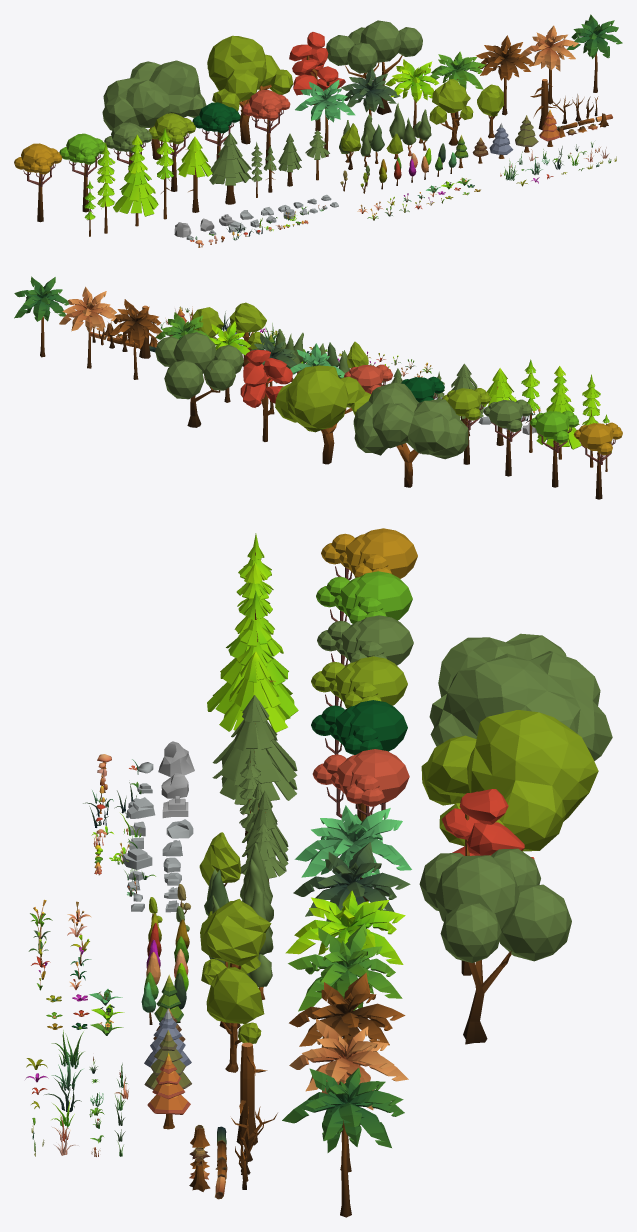
File: LowPolyTreePack_HyerCasual.fbx
3 views of the same model, one above another, from view 1: azimuth 30°, elevation 25°; view 2: azimuth 150°, elevation 25°; view 3: azimuth 270°, elevation 25° (orthographic). The views are drawn at different scales.
Visible parts, largest first — view 1: BigTrees.002, BigTrees, BigTrees.001, BigTrees.003, Pine_Tree.014, Trees.001, Palm.001, Pine_Tree.005, Palm.003, Trees.015, Palm.004, Palm (+21 smaller); view 2: BigTrees.002, BigTrees, BigTrees.001, BigTrees.003, Palm, Palm.002, Trees.016, Trees.015, Trees.017, Palm.001, Trees, Trees.001 (+13 smaller); view 3: BigTrees, BigTrees.001, BigTrees.002, Palm.002, Pine_Tree.005, Trees.014, Palm.006, Trees.001, Palm.003, Trees.013, Palm.005, Palm.001 (+18 smaller).
Boxes of the visible parts, left/top/right/bottom form: BigTrees.002: left=102, top=60, right=206, bottom=159; BigTrees: left=207, top=35, right=293, bottom=144; BigTrees.001: left=326, top=20, right=422, bottom=114; BigTrees.003: left=289, top=32, right=345, bottom=130; Pine_Tree.014: left=113, top=134, right=158, bottom=226; Trees.001: left=429, top=79, right=473, bottom=145; Palm.001: left=476, top=35, right=533, bottom=115; Pine_Tree.005: left=209, top=132, right=251, bottom=204; Palm.003: left=295, top=79, right=355, bottom=156; Trees.015: left=14, top=143, right=62, bottom=222; Palm.004: left=341, top=67, right=400, bottom=116; Palm: left=520, top=25, right=578, bottom=104; BigTrees.002: left=353, top=382, right=468, bottom=487; BigTrees: left=275, top=365, right=370, bottom=464; BigTrees.001: left=155, top=332, right=243, bottom=427; BigTrees.003: left=240, top=349, right=292, bottom=441; Palm: left=59, top=286, right=116, bottom=368; Palm.002: left=14, top=276, right=68, bottom=357; Trees.016: left=530, top=410, right=578, bottom=487; Trees.015: left=573, top=422, right=622, bottom=499; Trees.017: left=483, top=399, right=532, bottom=476; Palm.001: left=110, top=299, right=161, bottom=379; Trees: left=442, top=388, right=490, bottom=464; Trees.001: left=229, top=302, right=266, bottom=366; BigTrees: left=421, top=710, right=598, bottom=851; BigTrees.001: left=419, top=848, right=571, bottom=1044; BigTrees.002: left=429, top=633, right=612, bottom=760; Palm.002: left=282, top=1068, right=404, bottom=1217; Pine_Tree.005: left=212, top=695, right=297, bottom=835; Trees.014: left=312, top=749, right=409, bottom=901; Palm.006: left=288, top=923, right=402, bottom=1038; Trees.001: left=200, top=899, right=271, bottom=1029; Palm.003: left=294, top=805, right=411, bottom=880; Trees.013: left=311, top=700, right=407, bottom=820; Palm.005: left=285, top=890, right=405, bottom=1038; Palm.001: left=289, top=972, right=405, bottom=1065.
Size of the model in its own units: 598 by 97.33 by 257.
